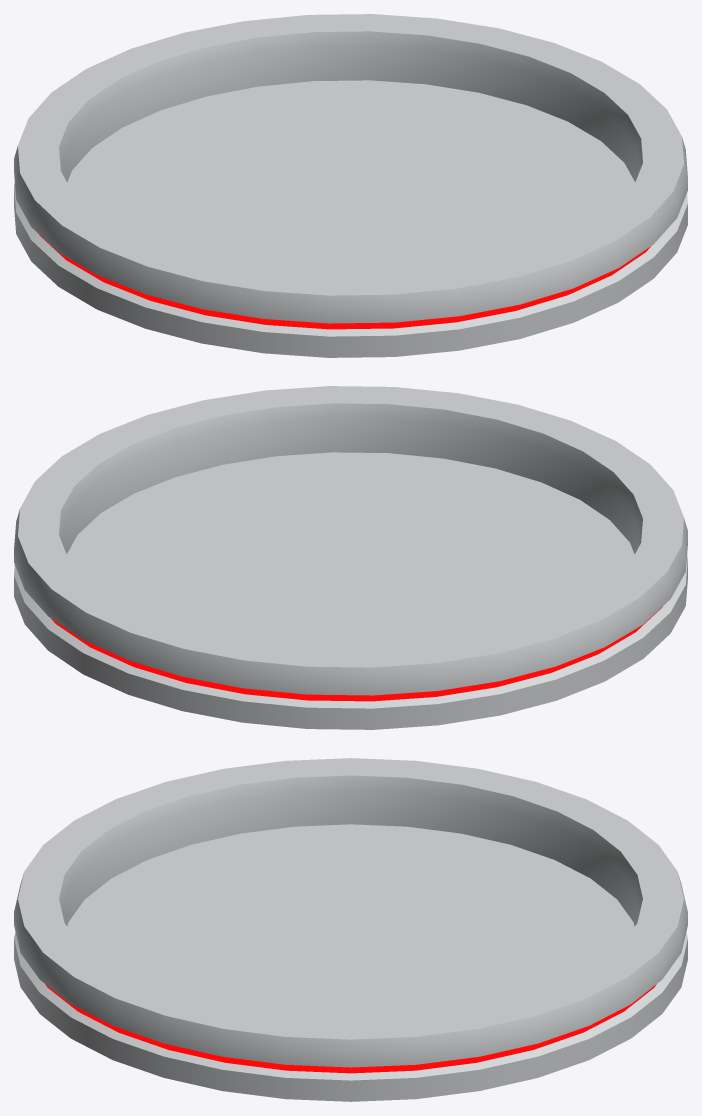
The model's file is hoverpad_pow.glb.
The picture shows the model from 3 angles, top to bottom: view 1: azimuth 30°, elevation 25°; view 2: azimuth 150°, elevation 25°; view 3: azimuth 270°, elevation 25°; orthographic projection.
Parts seen in each view (by area): view 1: hoverpad_pow; view 2: hoverpad_pow; view 3: hoverpad_pow.
Part boxes in pixels (x1=…): hoverpad_pow: x1=14, y1=14, x2=687, y2=357; hoverpad_pow: x1=14, y1=386, x2=687, y2=729; hoverpad_pow: x1=14, y1=758, x2=687, y2=1101.
Size of the model in its own units: 0.14 by 0.0139 by 0.14.
